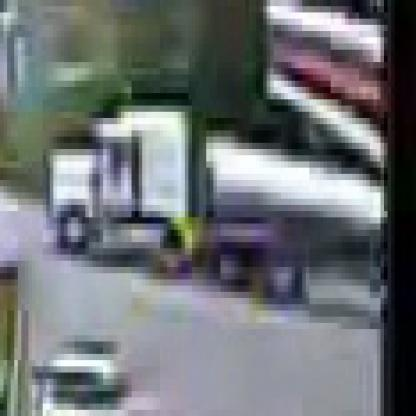container: (44, 101, 385, 337)
